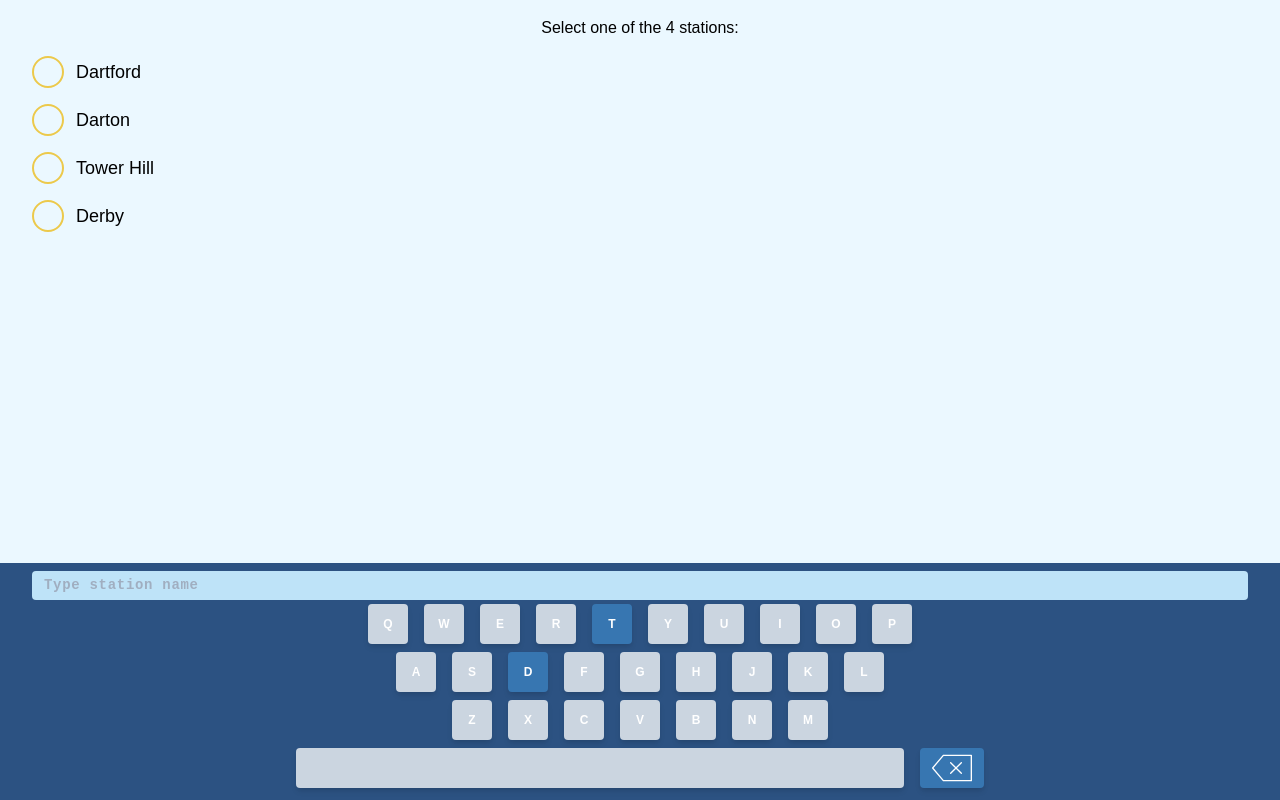
Test: Station Chooser › should filter station on keyboard buttons click
Check: the number of elements with class "station" is 4, box [32, 56, 141, 88]; [32, 104, 130, 136]; [32, 152, 154, 184]; [32, 200, 124, 232]
Click the button "D": (528, 672) [508, 652, 548, 692]
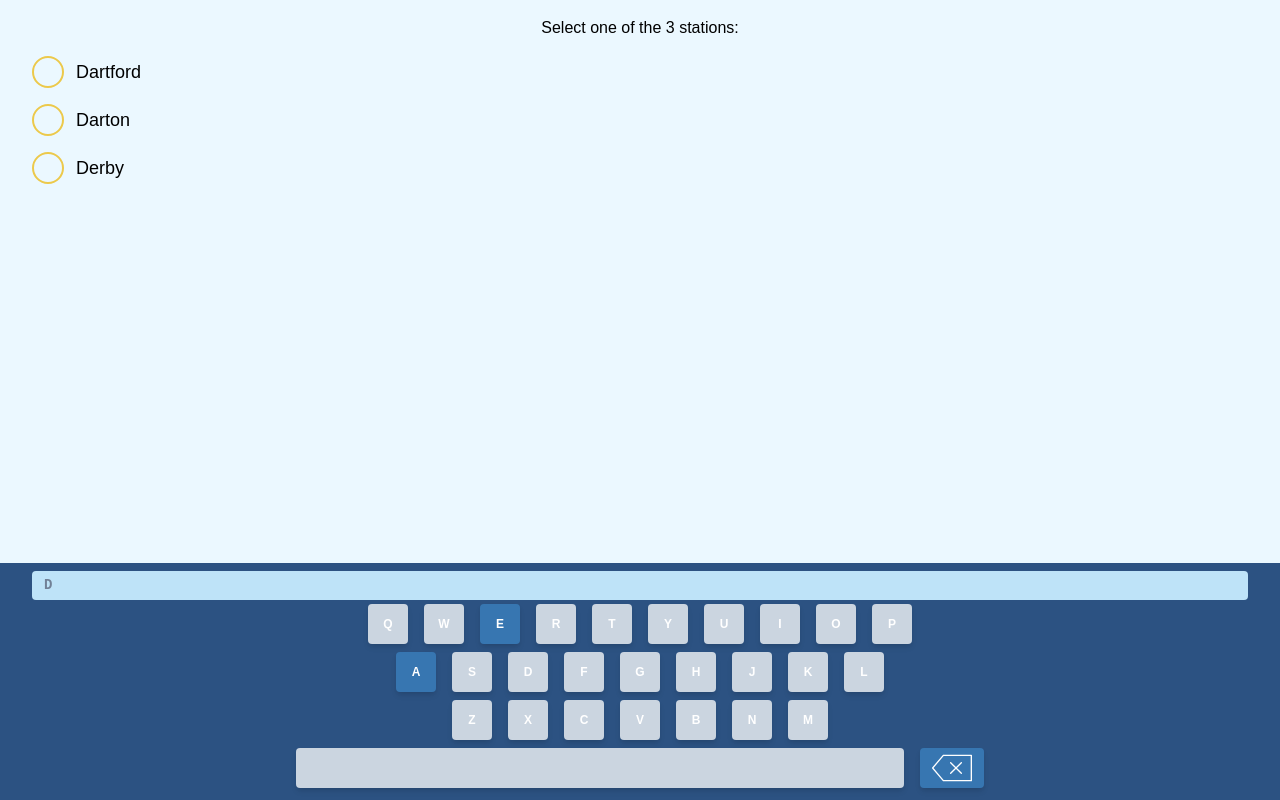
Click the button "A": (416, 672) [396, 652, 436, 692]
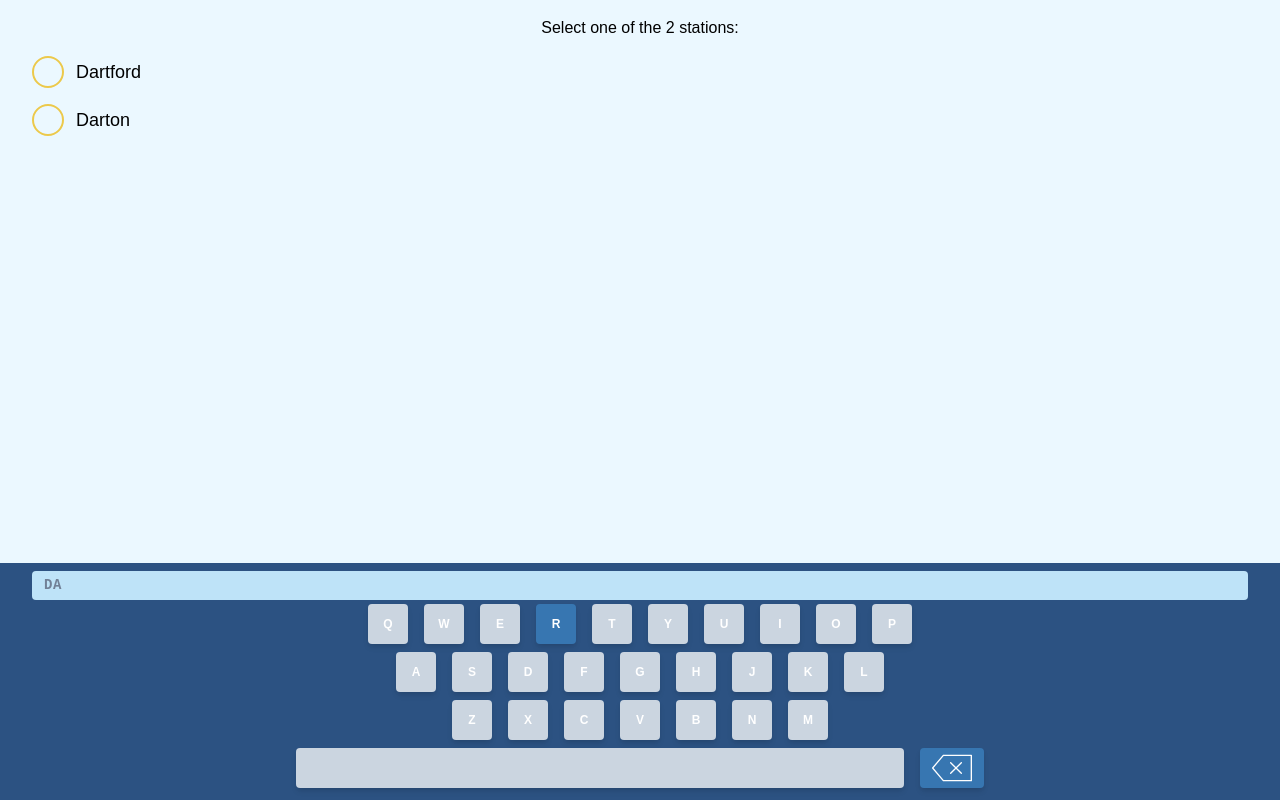
Click the button "R": (556, 624) [536, 604, 576, 644]
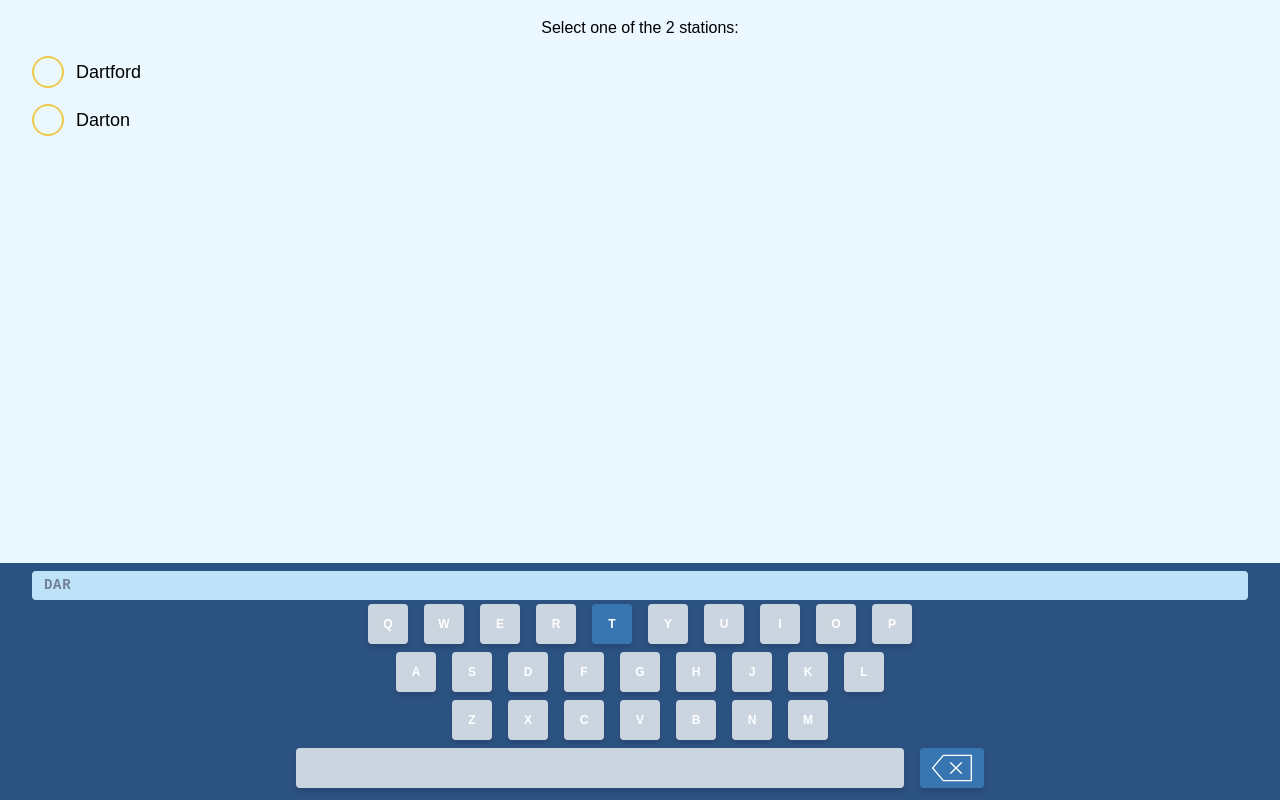
Click the button "T": (612, 624) [592, 604, 632, 644]
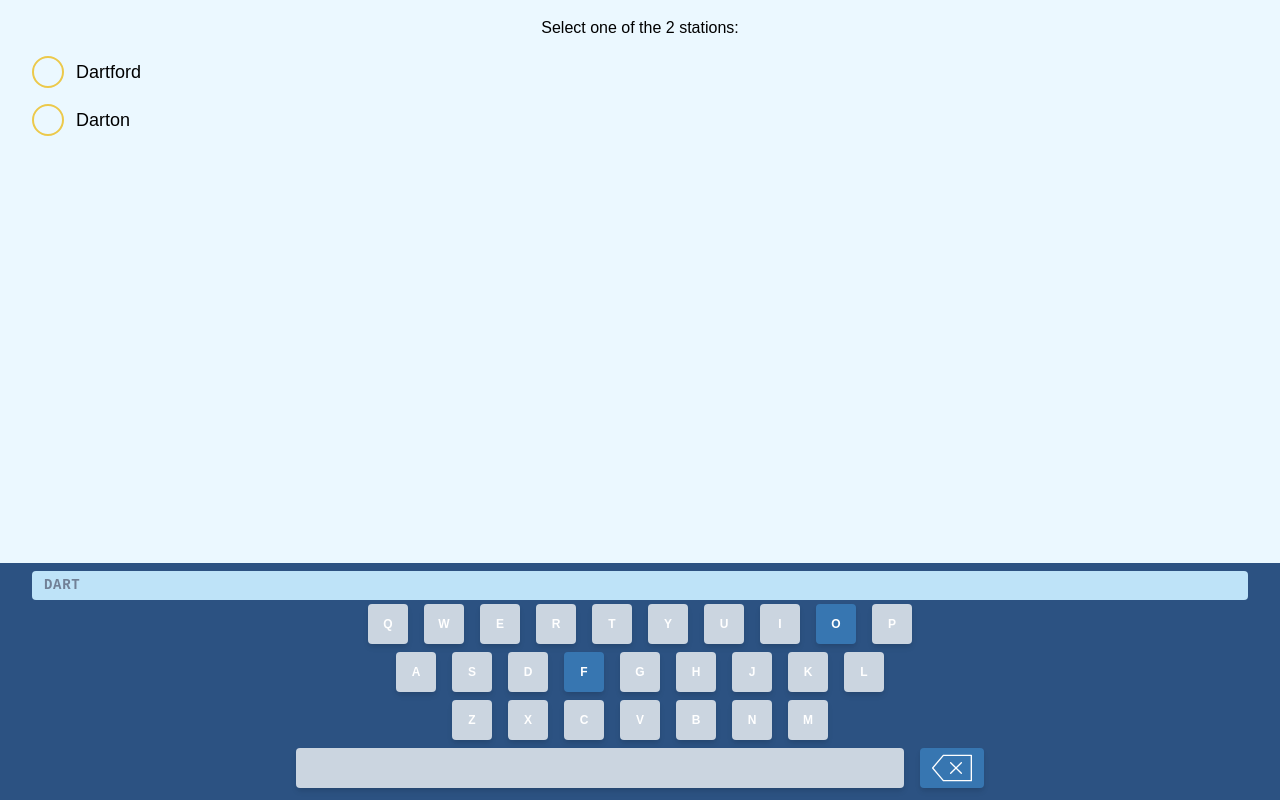
Check: the number of elements with class "station" is 2, box [32, 56, 141, 88]; [32, 104, 130, 136]
Check: the field with class "user-input" holds "DART", box [32, 571, 1248, 600]
